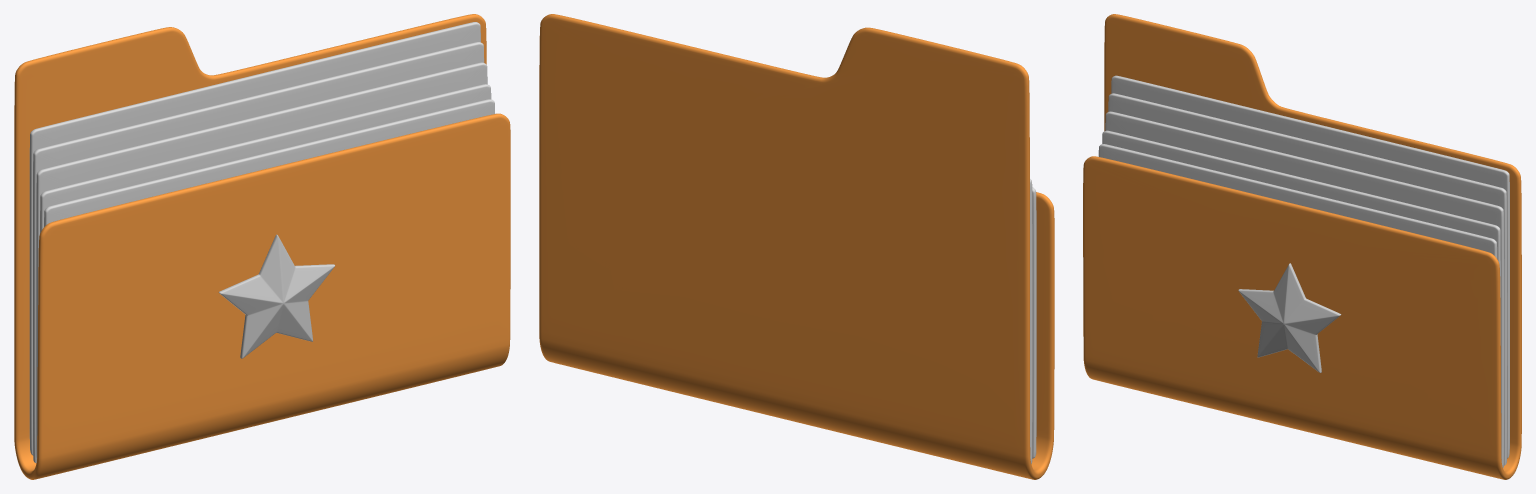
Rendered from folder.glb.
3 renders of one model, left to right at view 1: azimuth 30°, elevation 25°; view 2: azimuth 150°, elevation 25°; view 3: azimuth 330°, elevation 25°, orthographic. The views are drawn at different scales.
Parts seen in each view (by area): view 1: Plane.001; view 2: Plane.001; view 3: Plane.001.
Boxes of the visible parts, bbox=[...] form: Plane.001: bbox=[14, 14, 510, 479]; Plane.001: bbox=[539, 14, 1054, 479]; Plane.001: bbox=[1083, 14, 1521, 479].
Size of the model in its own units: 3.09 by 2.55 by 0.3934.
